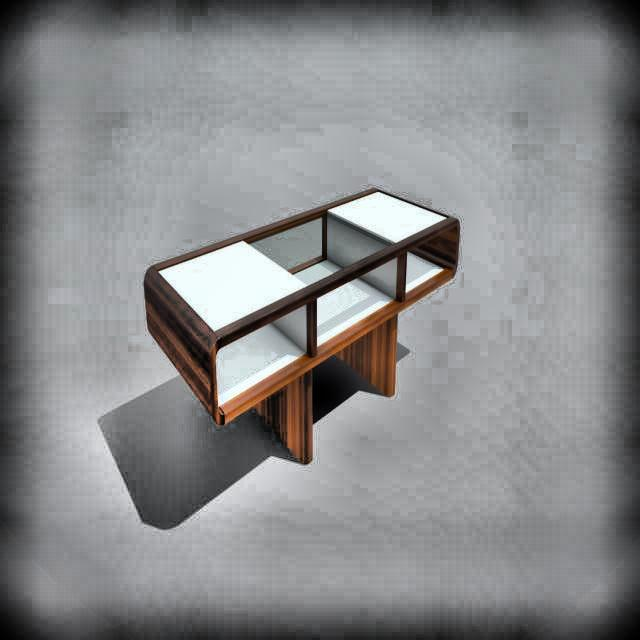mesa: (144, 180, 461, 462)
